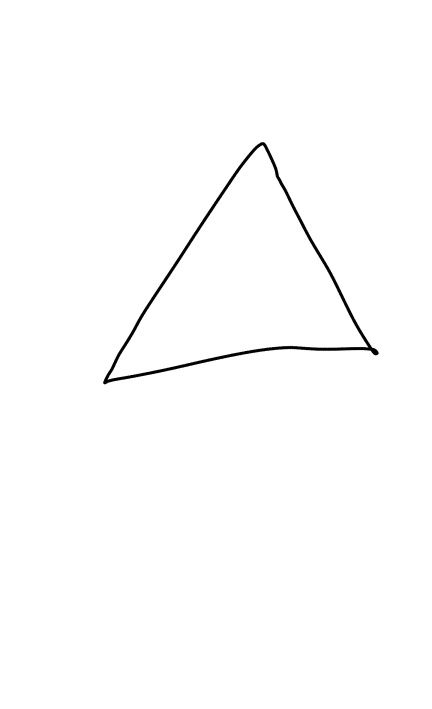Triangle: (99, 136, 384, 391)
